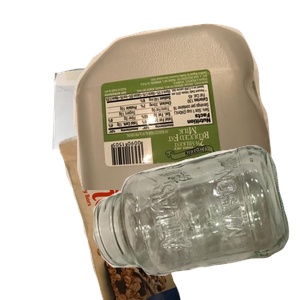glass: (91, 143, 300, 300)
paper: (50, 61, 257, 211)
plastic: (71, 21, 300, 201)
trash: (56, 120, 229, 300)
